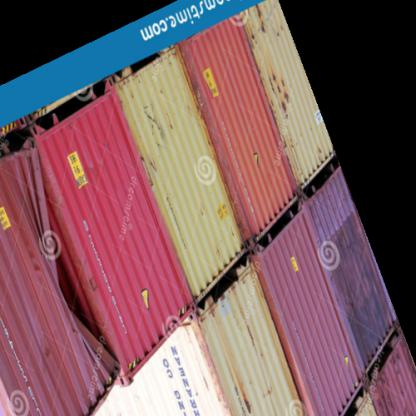Damage: (30, 201, 119, 339)
